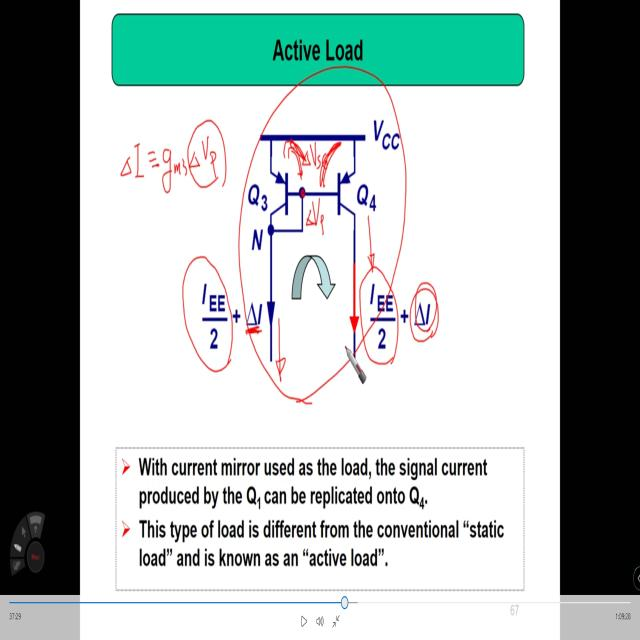panseo: (105, 115, 236, 209), (297, 131, 328, 177), (300, 200, 332, 237)
